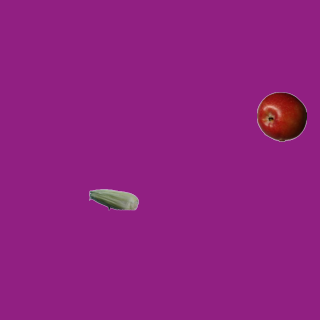Apple Braeburn: (256, 91, 306, 141)
Corn Husk: (88, 174, 138, 224)
